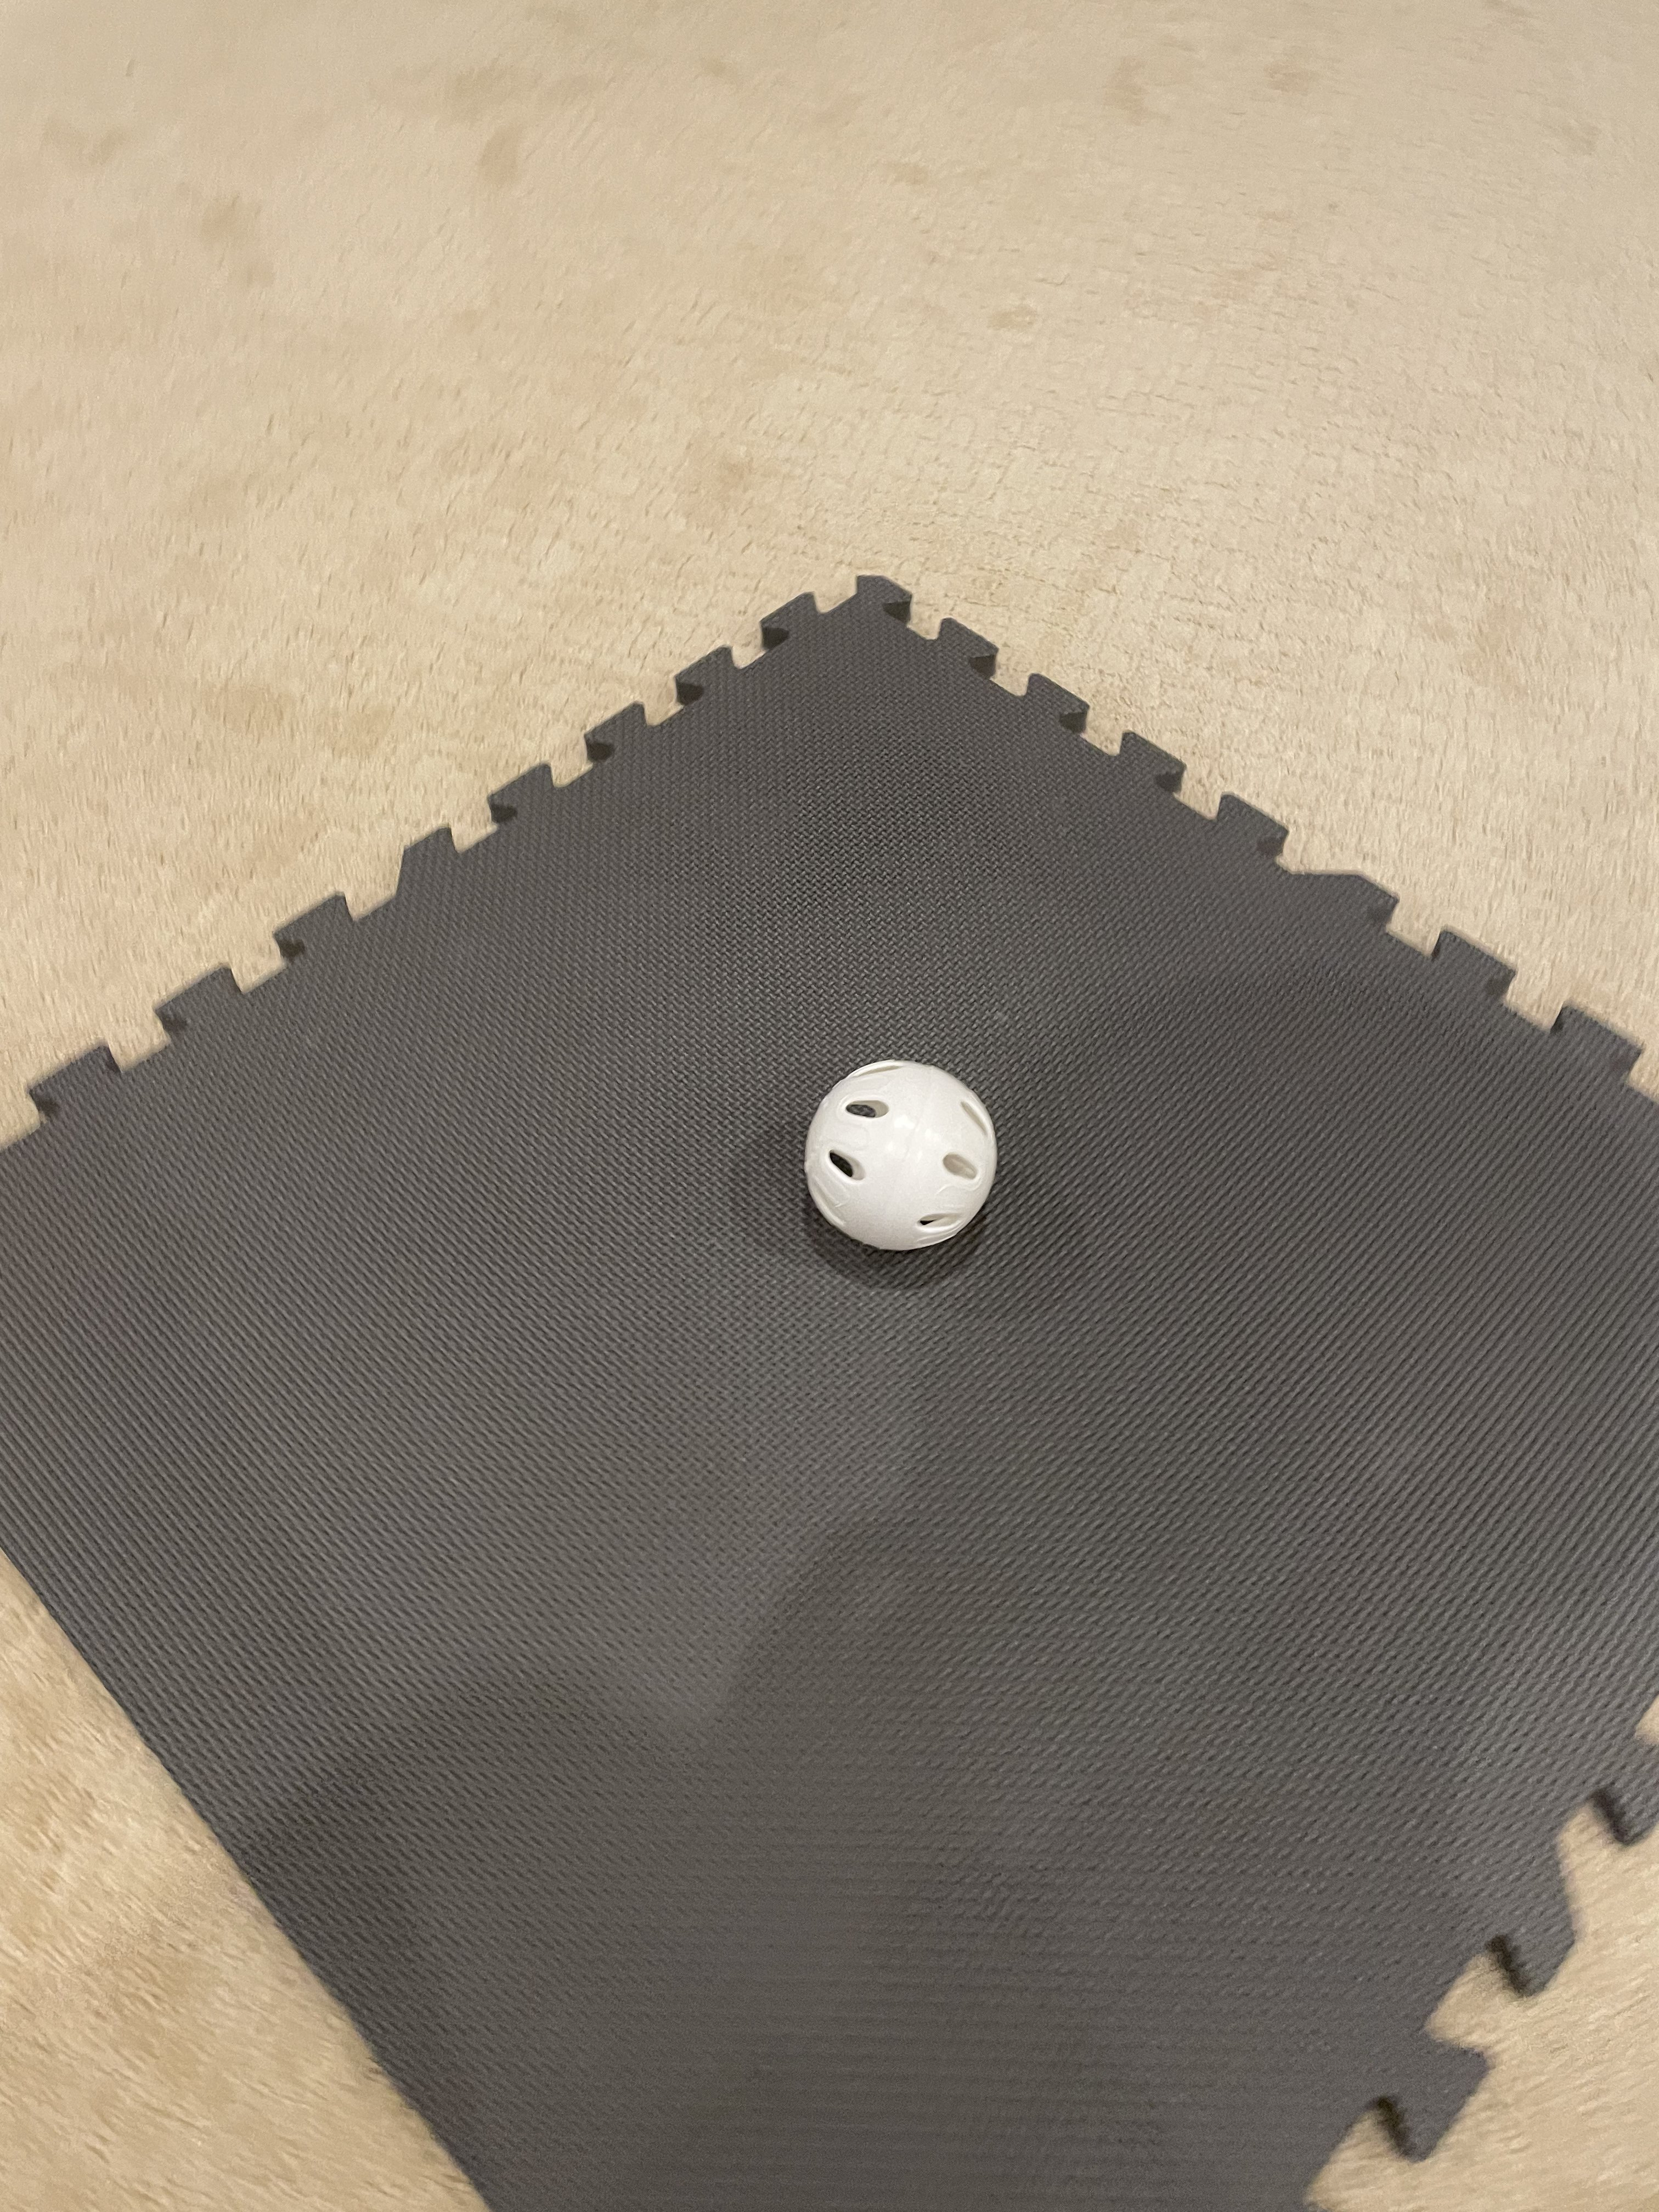ball: (775, 1021, 1028, 1275)
